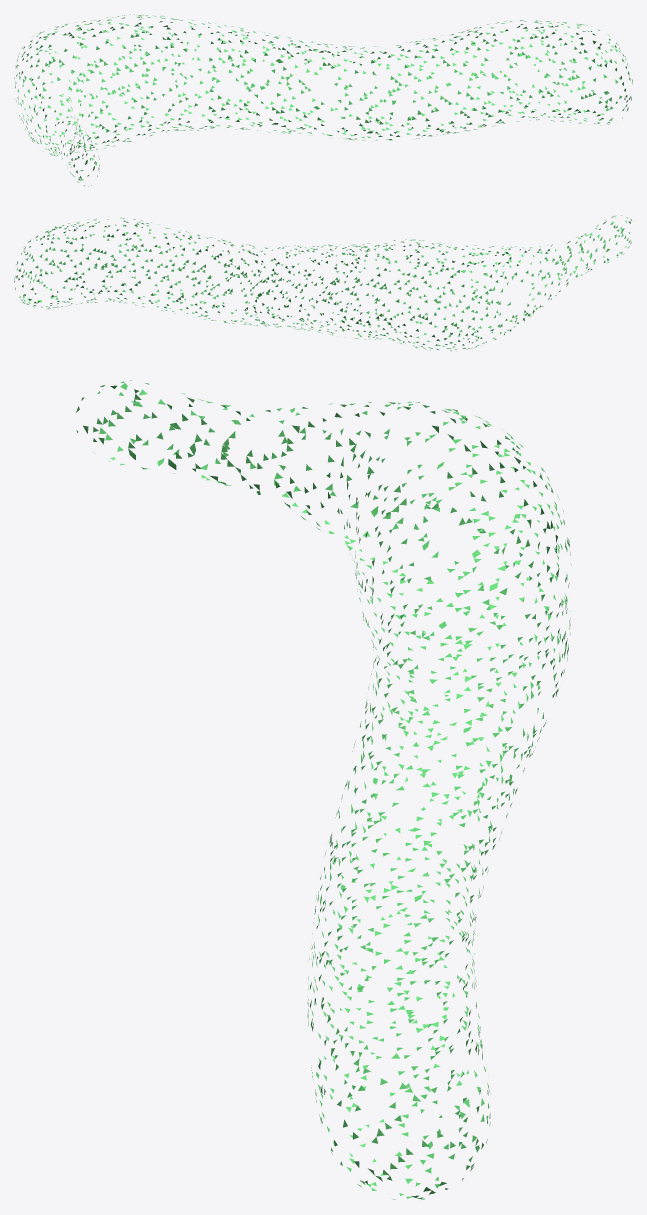
Rendered from morph_019.glb.
The picture shows the model from 3 angles, top to bottom: view 1: azimuth 30°, elevation 25°; view 2: azimuth 150°, elevation 25°; view 3: azimuth 270°, elevation 25°; orthographic projection. The views are drawn at different scales.
Size of the model in its own units: 112 by 34.57 by 45.05.
